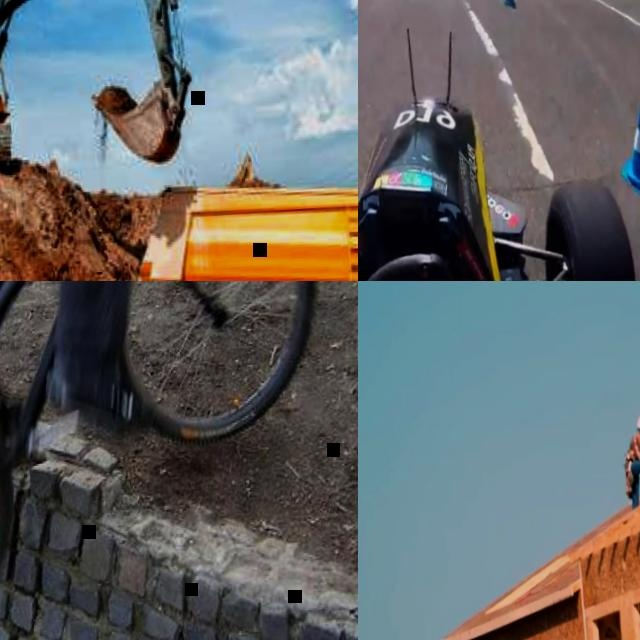Hardhat: (636, 414, 640, 432)
NO-Safety Vest: (624, 432, 640, 460)
Person: (0, 281, 226, 442), (620, 412, 640, 506)
Safety Cone: (623, 92, 640, 188)
machinery: (0, 0, 199, 192), (127, 165, 358, 281)
vehicle: (358, 77, 640, 281)
